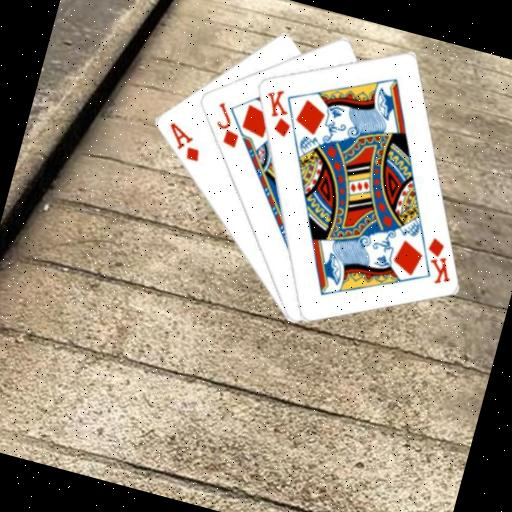AD: (158, 117, 207, 164)
JD: (205, 97, 248, 150)
KD: (254, 82, 301, 140), (415, 232, 461, 288)
